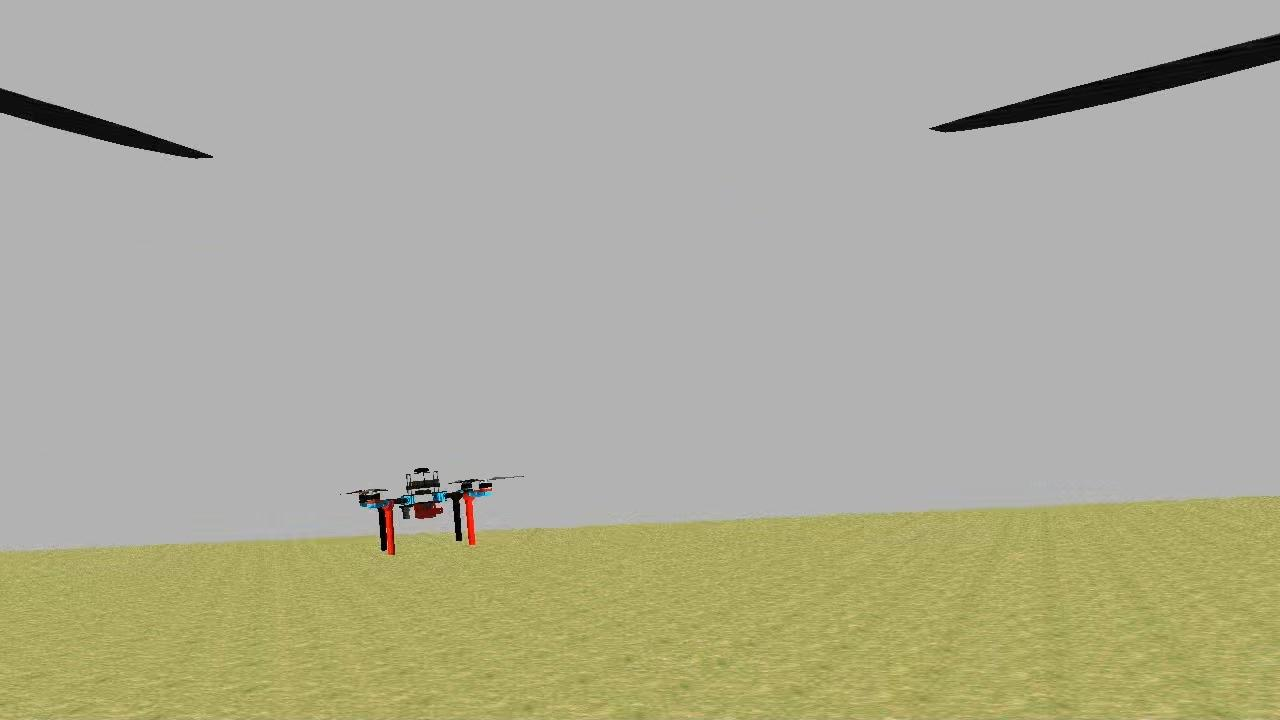UAV: (353, 460, 497, 559)
